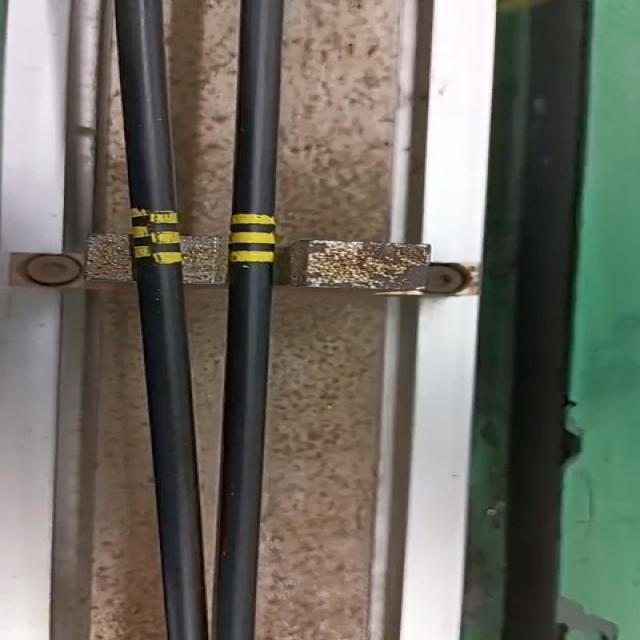yellow: (130, 210, 184, 264), (226, 213, 278, 264)
